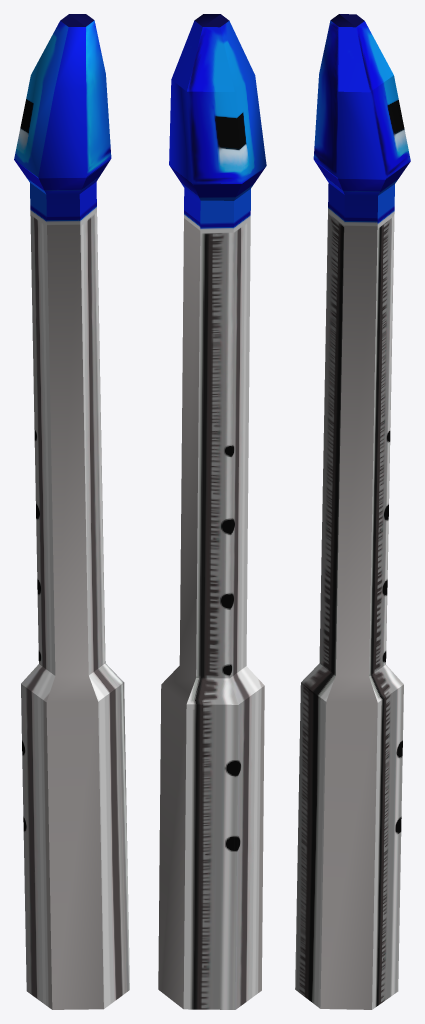
The model's file is Flauta1_000003.obj.
3 renders of one model, left to right at view 1: azimuth 90°, elevation 25°; view 2: azimuth 210°, elevation 25°; view 3: azimuth 270°, elevation 25°, orthographic.
Parts seen in each view (by area): view 1: pCylinder3; view 2: pCylinder3; view 3: pCylinder3.
Boxes of the visible parts, bbox=[...] form: pCylinder3: bbox=[14, 14, 129, 1009]; pCylinder3: bbox=[158, 14, 266, 1009]; pCylinder3: bbox=[295, 14, 410, 1009].
Size of the model in its own units: 0.4716 by 5.61 by 0.606.
